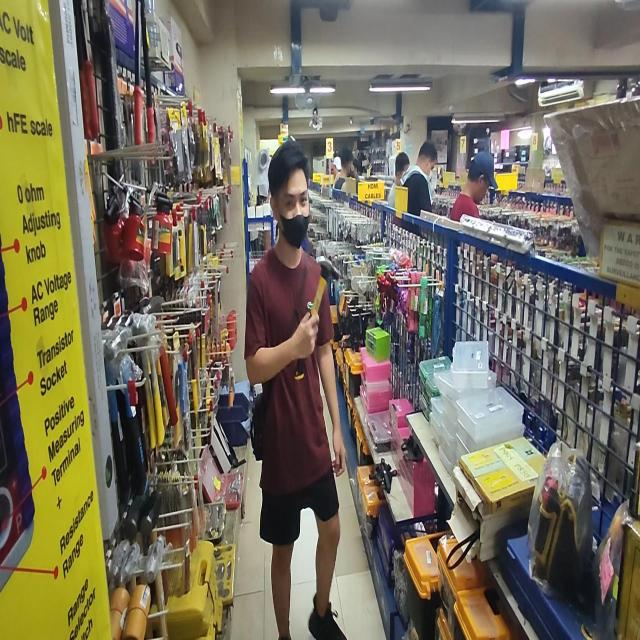hammer: (294, 255, 341, 380)
